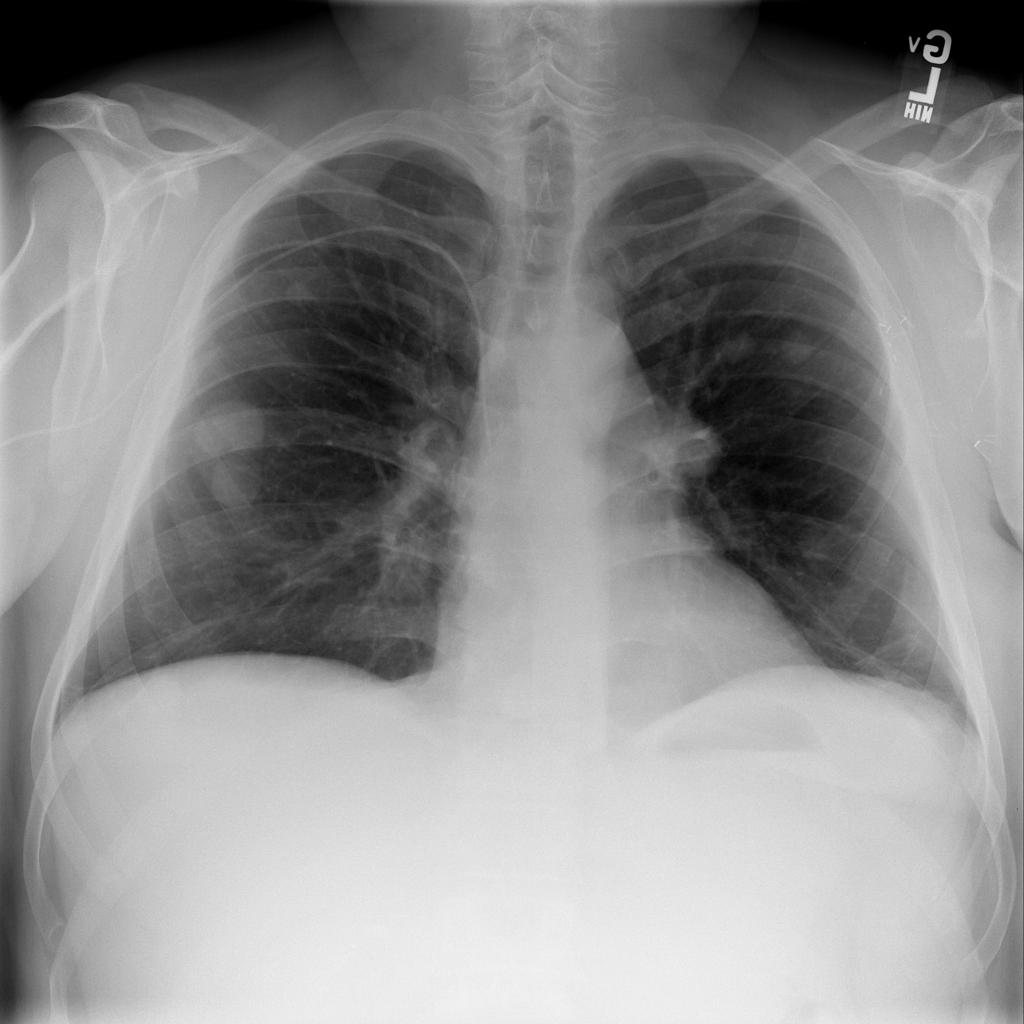nodule: (193, 451, 277, 531), (184, 386, 270, 457), (765, 306, 833, 378)
